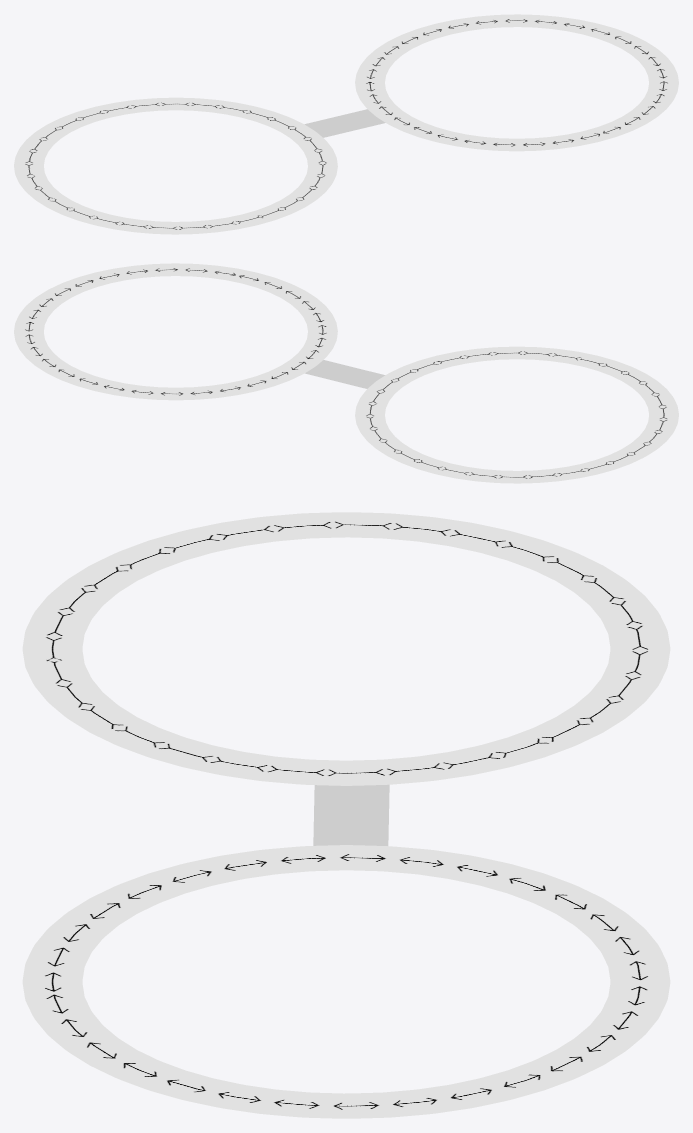
File: Nav.glb
3 renders of one model, top to bottom at view 1: azimuth 30°, elevation 25°; view 2: azimuth 150°, elevation 25°; view 3: azimuth 270°, elevation 25°, orthographic. The views are drawn at different scales.
Parts seen in each view (by area): view 1: Nav; view 2: Nav; view 3: Nav.
Part boxes in pixels (x1,y1,x2,y2): Nav: (14, 14, 678, 234); Nav: (14, 263, 678, 483); Nav: (22, 512, 670, 1118).
Size of the model in its own units: 77.27 by 8.96e-07 by 34.86.
3 materials, 2 textured.
